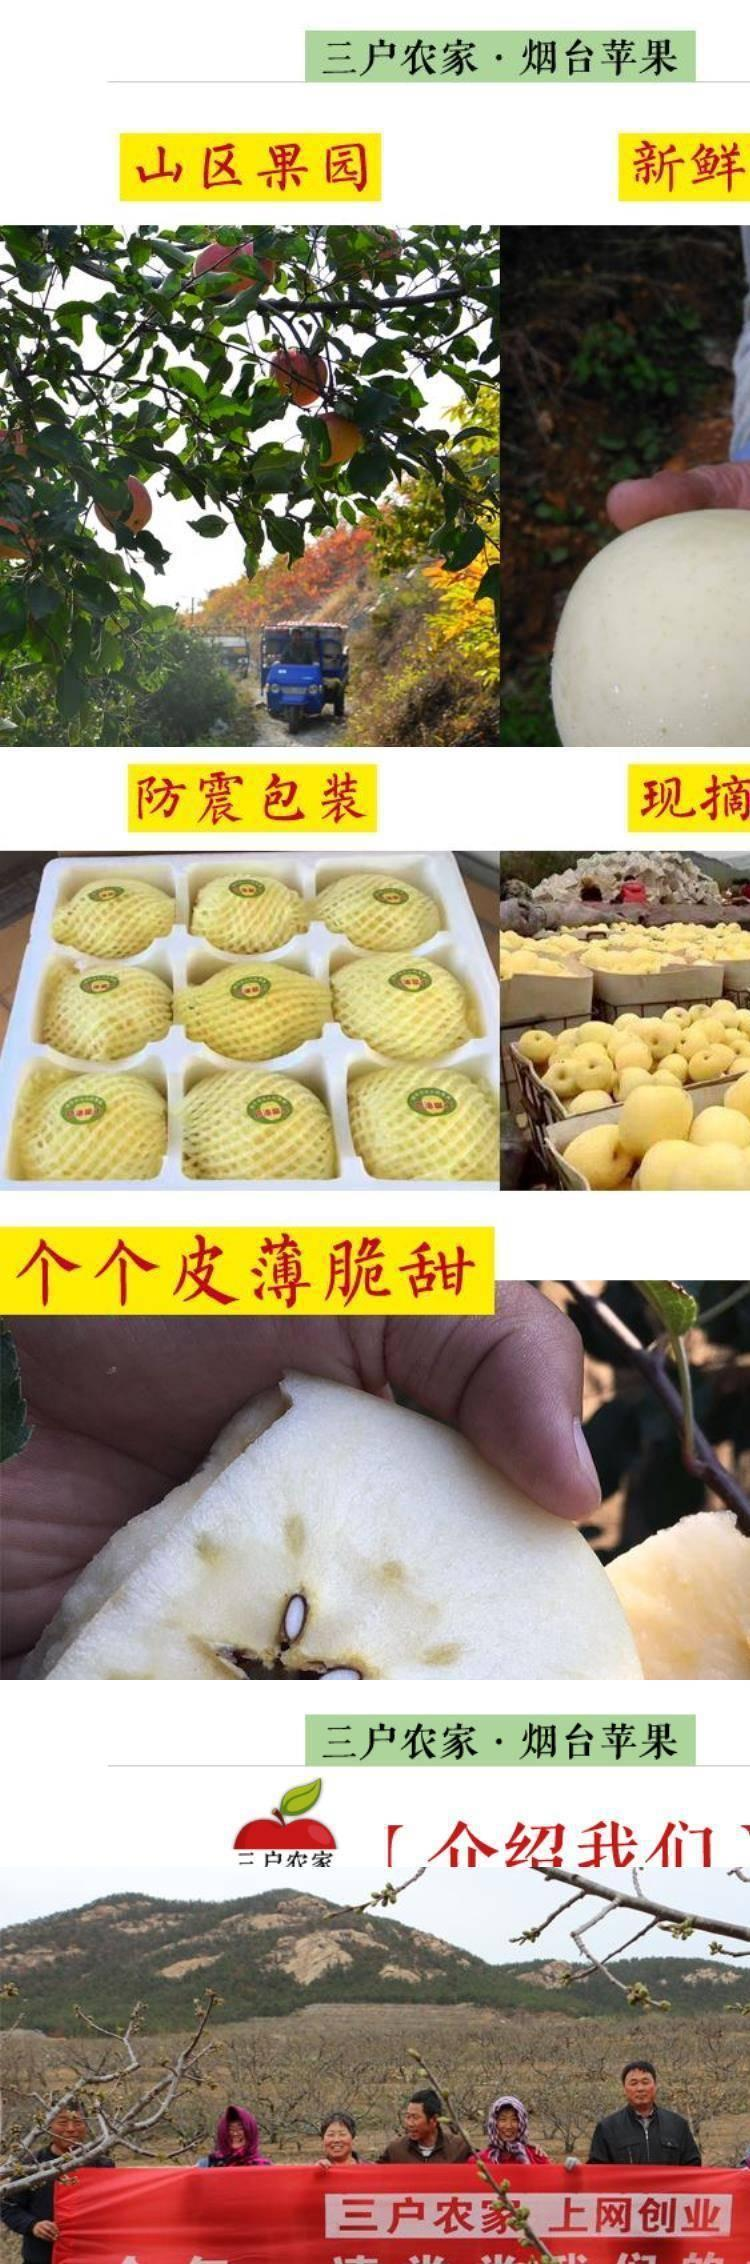apple: (267, 349, 331, 410)
